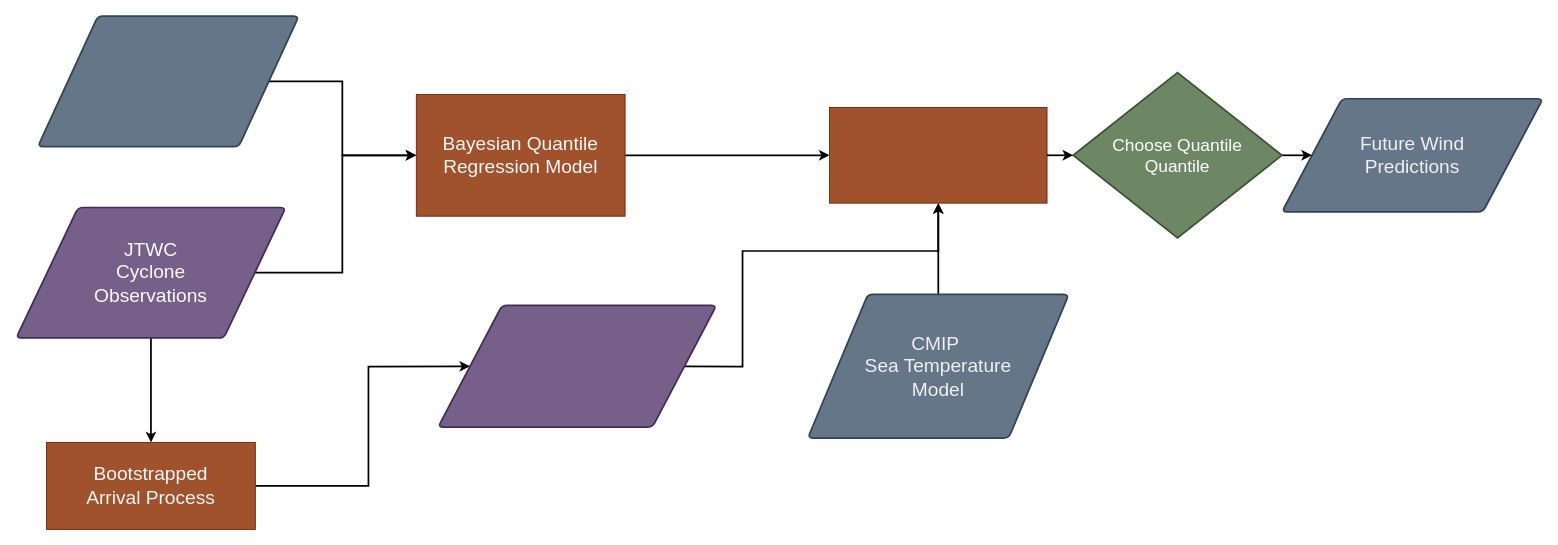
This 1558x545 diagram has some shape labels left out. Here are the shapes that lost their labels. From the top down, the centre of each, then its label:
(168,81): NOAA Sea Temperature Obervations
(938,155): Posterior Predictive sampler
(577,366): Resampled Cyclone Data
